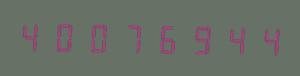four: (17, 17, 49, 54), (248, 21, 280, 58), (215, 21, 247, 57)
nine: (182, 20, 214, 57)
seven: (116, 19, 148, 55)
six: (149, 19, 181, 56)
zero: (83, 18, 115, 55), (50, 18, 82, 54)
